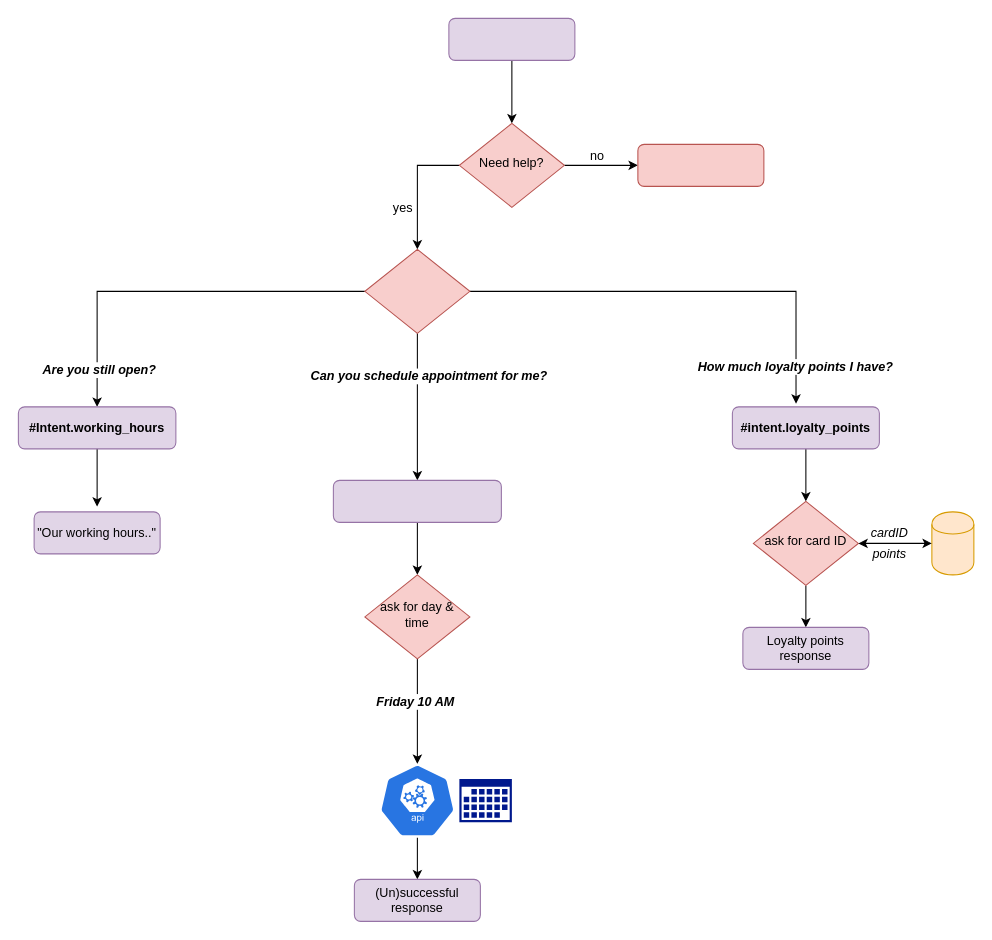
This 992x940 diagram has some shape labels left out. The centre of each missing label's shape, as x and y in pixels:
"#intent.make_appointment" belongs at point (416, 500).
"Default bot message" belongs at point (700, 164).
"Hey/Hi" belongs at point (511, 38).
"Match query" belongs at point (417, 290).
